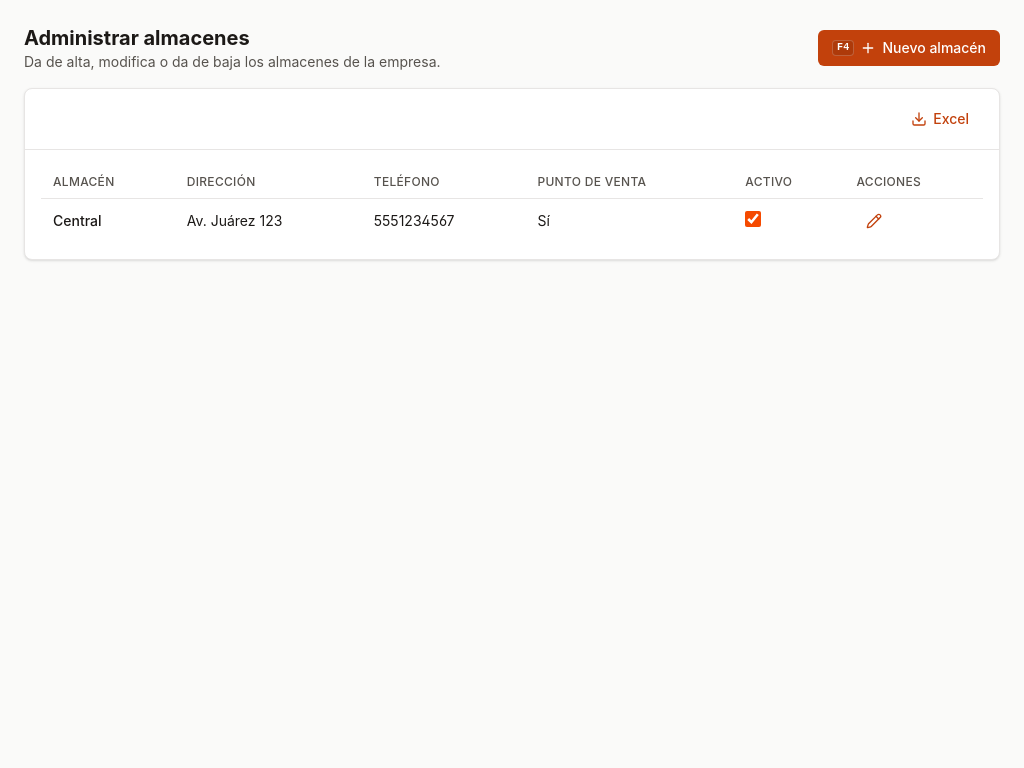
Test: AlmacenesAdminPage (profundización) › valida el nombre obligatorio al crear
This screenshot has width=1024, height=768.
Check: the text "Central" is shown, box [53,212,102,229]
Click the button "F4 Nuevo almacén" at (909,48), box [818,30,1000,66]
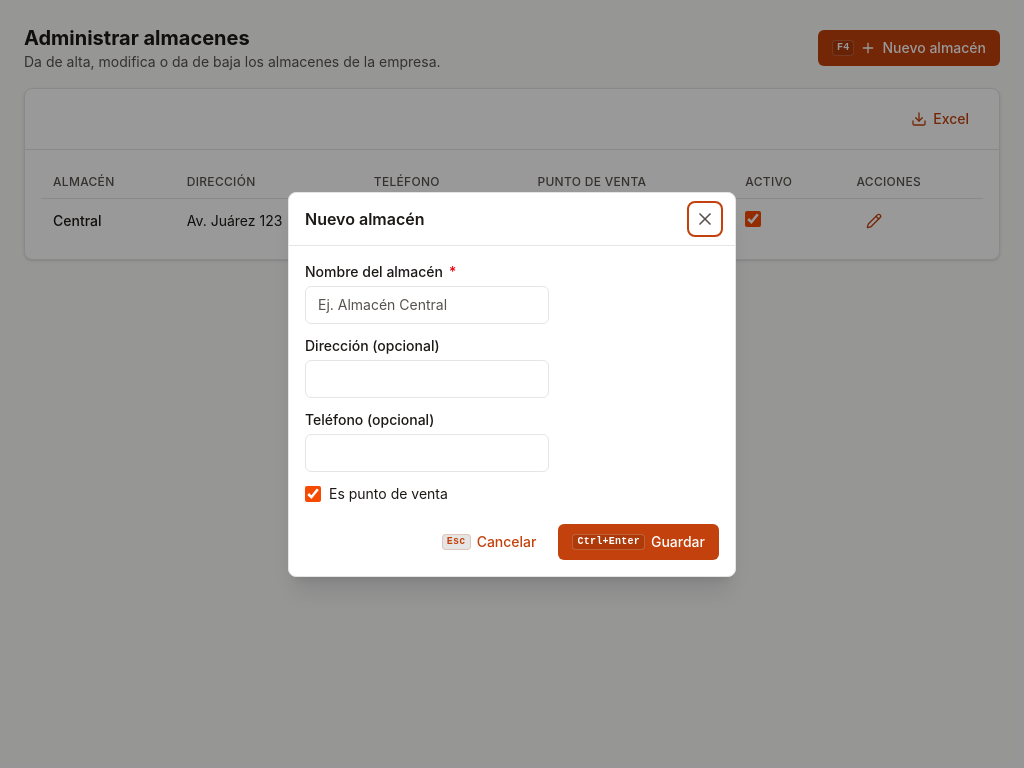
Click the button "Ctrl+Enter Guardar" at (639,542), box [558,524,719,560]
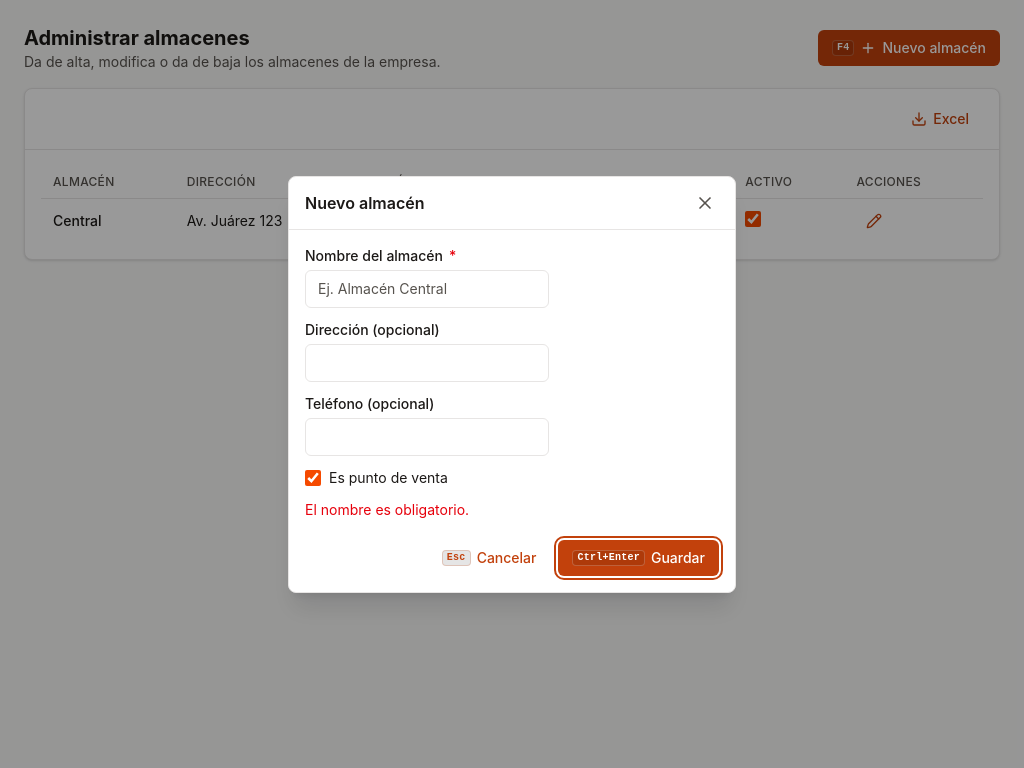
Check: the text "El nombre es obligatorio." is shown, box [305,500,469,518]
